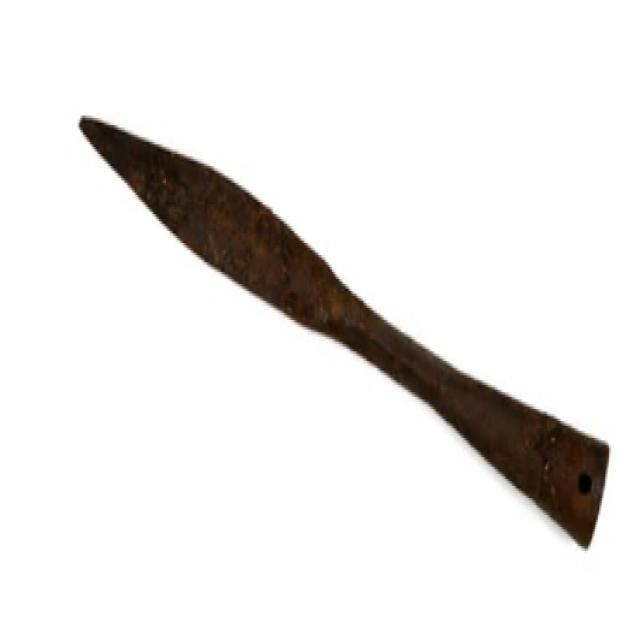spear: (61, 69, 618, 567)
